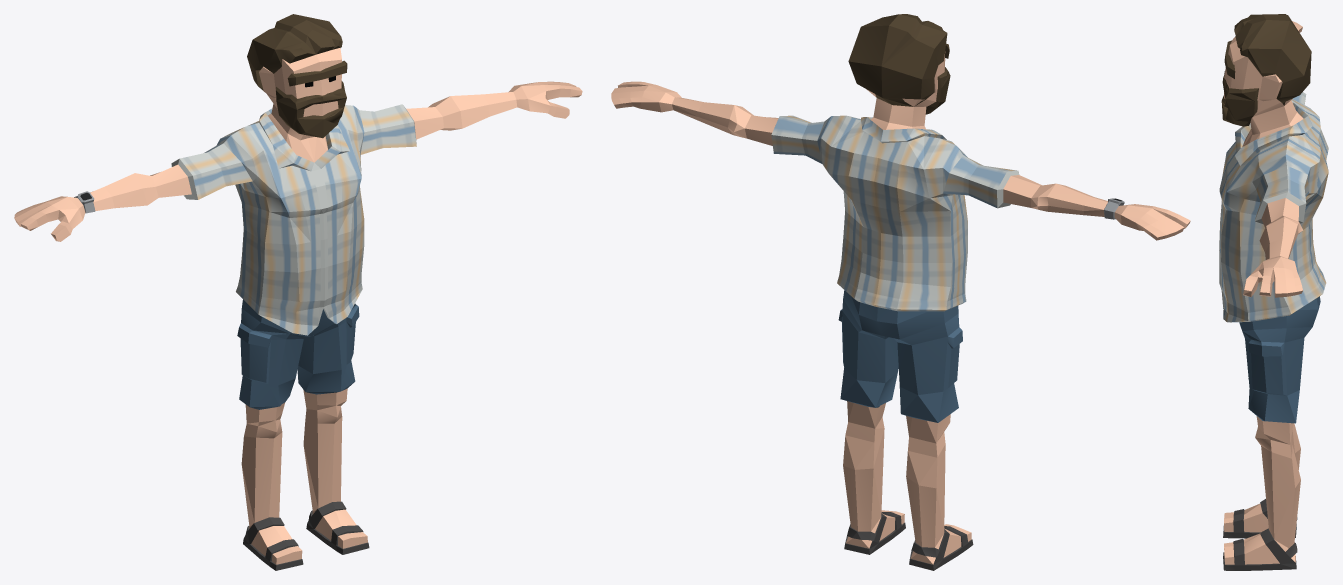
The model's file is Character4_model.fbx.
The picture shows the model from 3 angles, left to right: view 1: azimuth 30°, elevation 25°; view 2: azimuth 150°, elevation 25°; view 3: azimuth 270°, elevation 25°; orthographic projection.
Parts seen in each view (by area): view 1: Character_Father_01; view 2: Character_Father_01; view 3: Character_Father_01.
Boxes of the visible parts, x1=… form: Character_Father_01: x1=14, y1=14, x2=582, y2=570; Character_Father_01: x1=611, y1=14, x2=1190, y2=570; Character_Father_01: x1=1219, y1=14, x2=1328, y2=570.
Bounding box in the file's own units: 205 × 183 × 34.34.
Materials: 1 (1 with a texture image).
